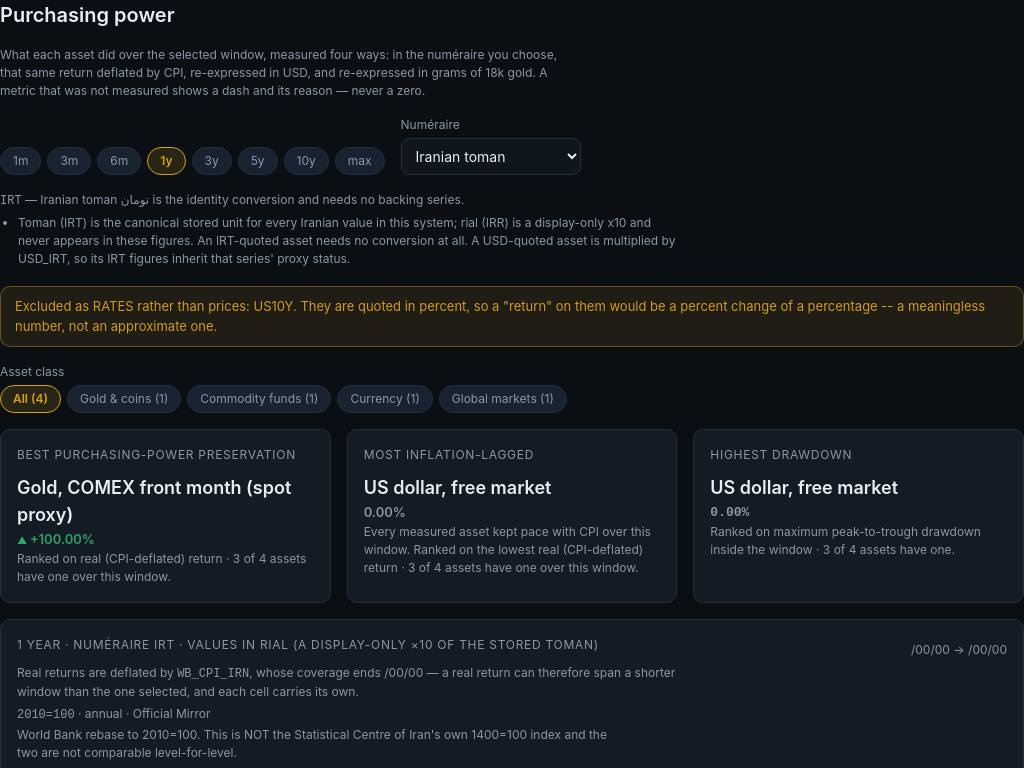
Markets — the rial toggle is a toman conversion and fires only on toman › leaves a gram count alone in the rial view
The width and height of the screenshot is (1024, 768).
Step 1. Select "Grams of 18k gold" in the dropdown labelled "Numéraire" → (491, 156), box [401, 138, 581, 175]
(page scrolled)
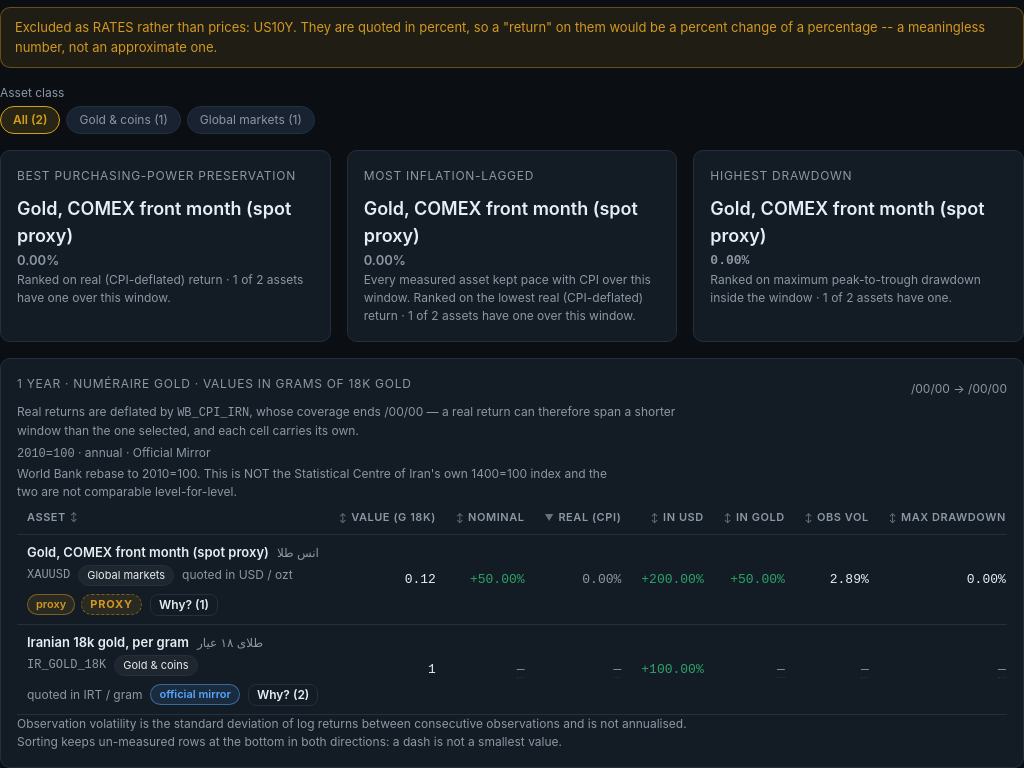
Expected: the cell does not show "10"
Expected: the cell "1" is shown, [329, 624, 446, 714]
